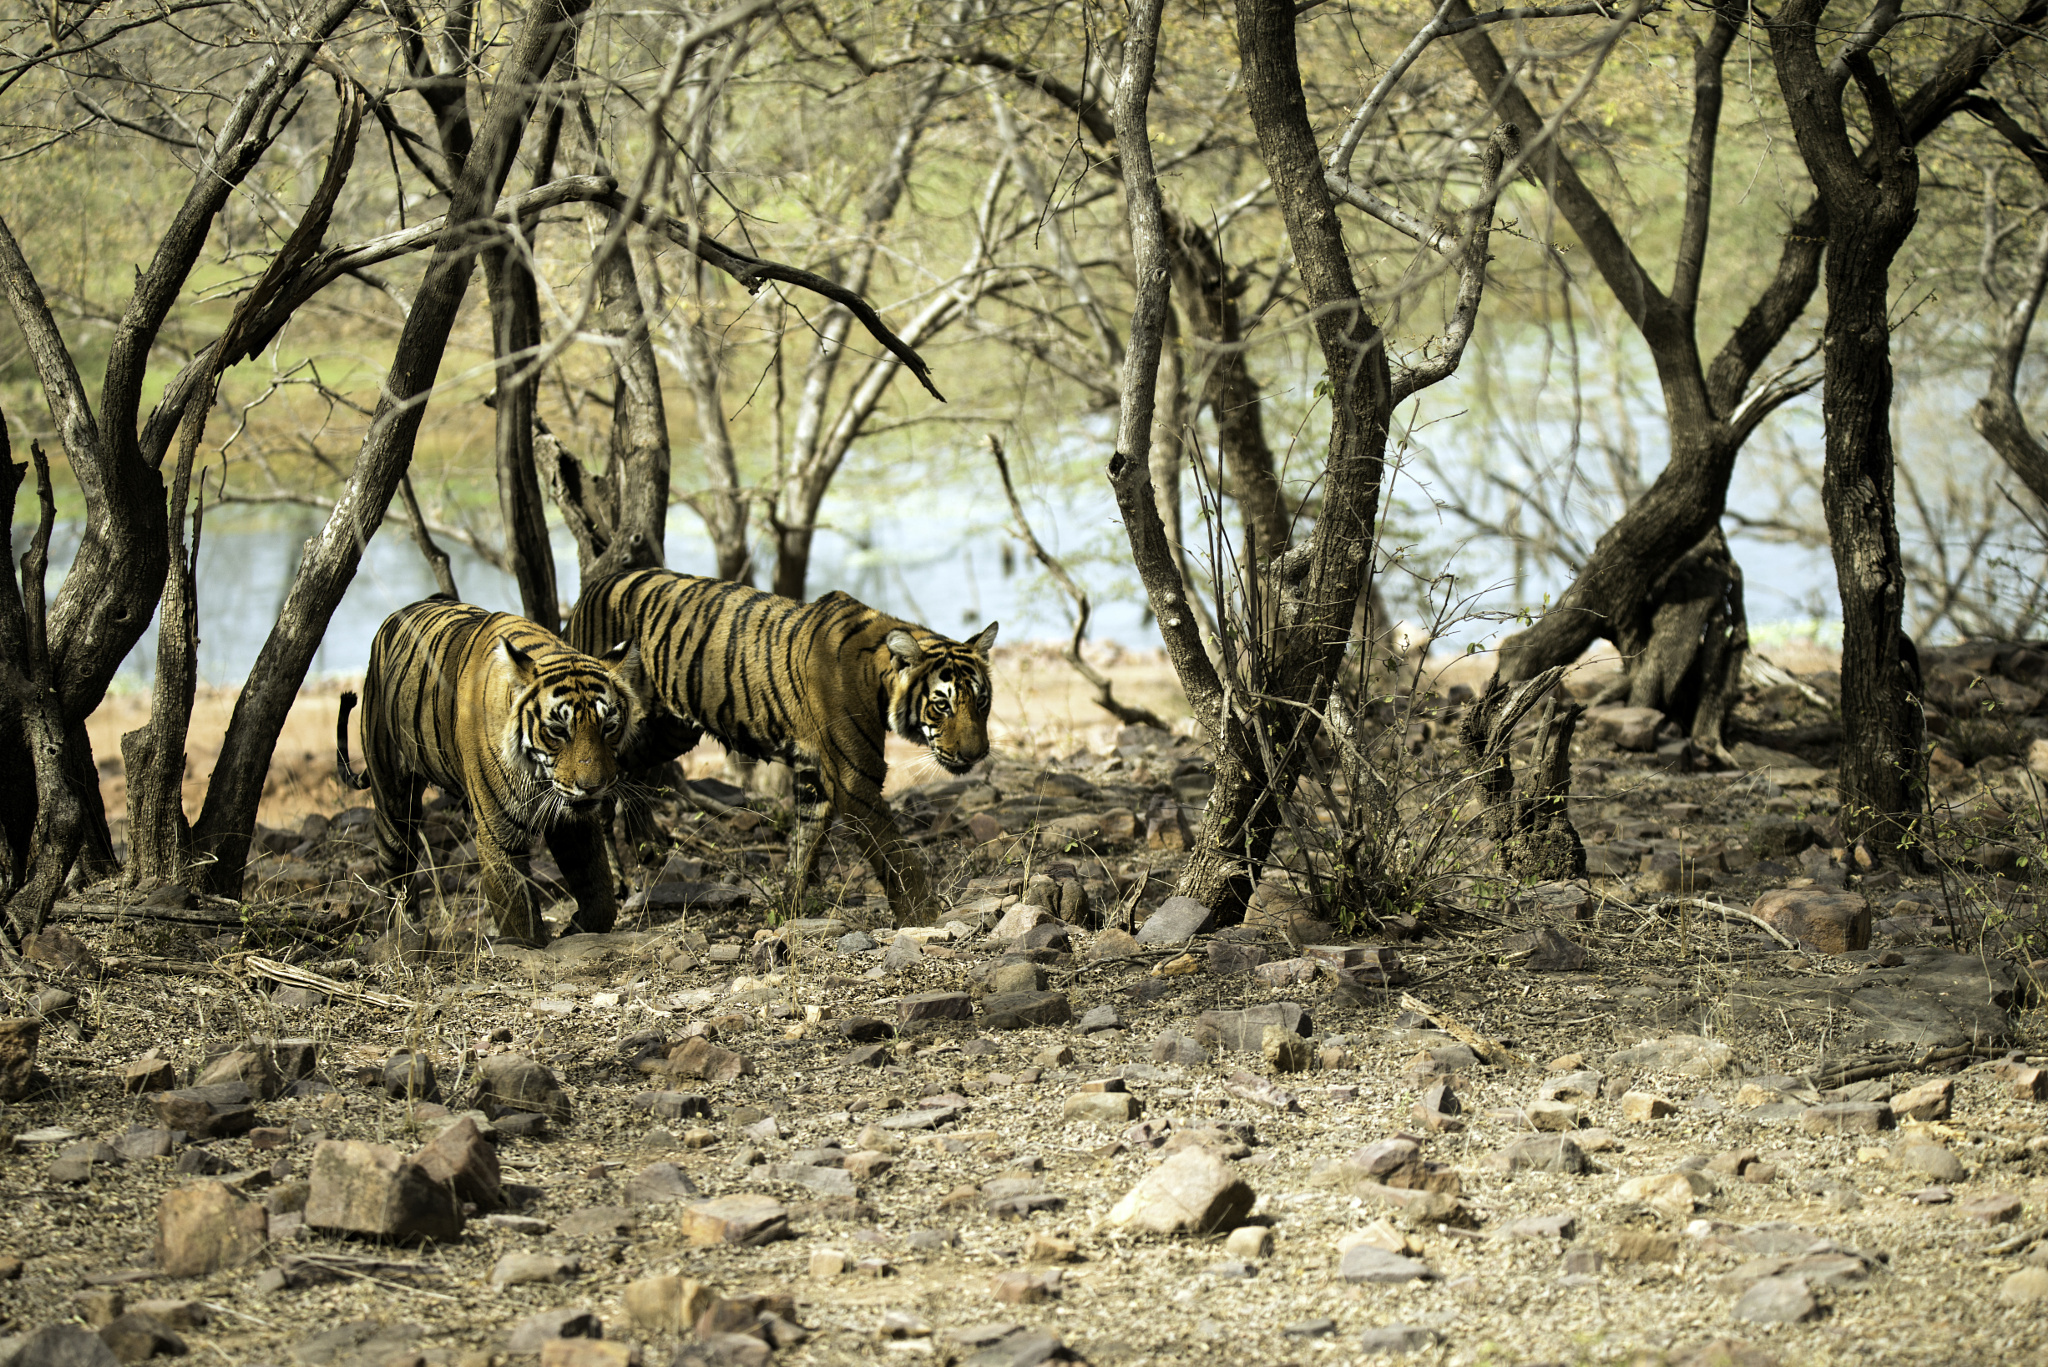tiger: (595, 577, 1046, 923), (313, 580, 651, 964)
